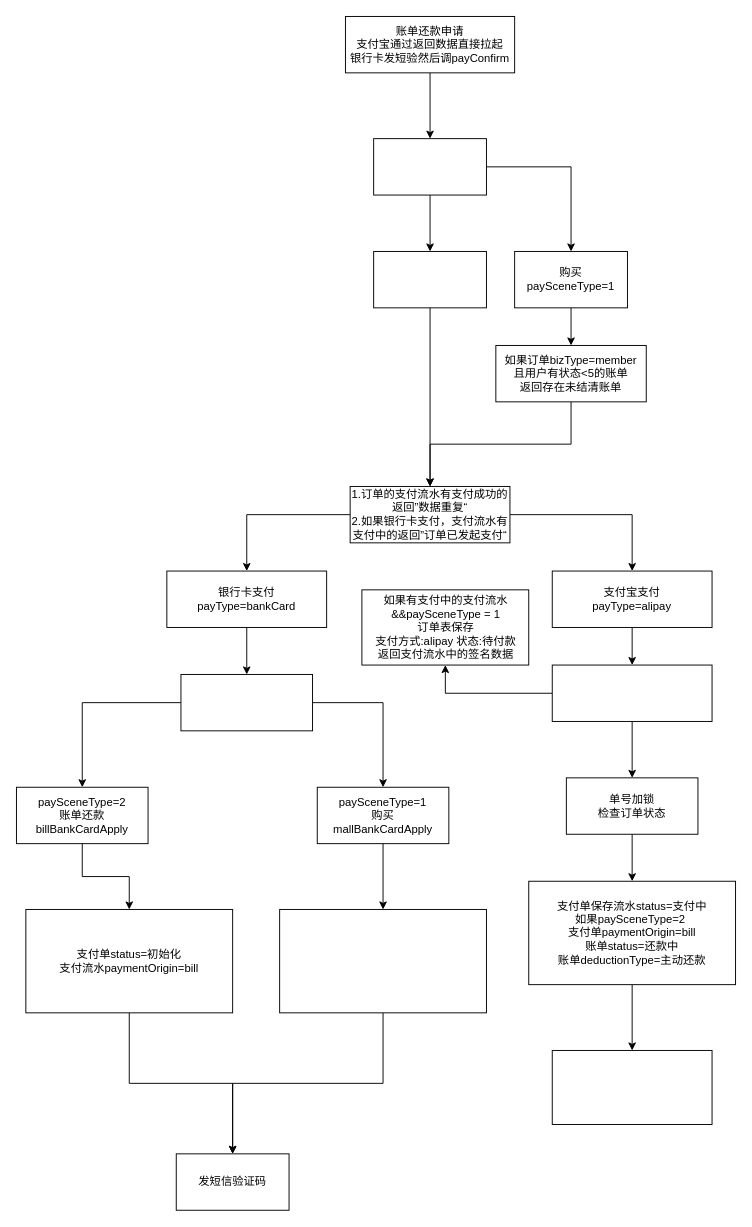
Image size: 752x1227. Some labels were removed from this diagram. Here are the shapes that lost their labels. From the top down, the centre of each, then its label:
At point 429,166: "支付申请 payApply".
At point 429,279: "账单还款 paySceneType=2".
At point 246,702: "短信发送次数校验 相同paySceneType 30分钟内5次以上锁定30分钟".
At point 631,692: "根据单号幂等校验3秒内不能重复发 返回”订单已发起支付“".
At point 382,961: "支付单status=初始化 paymentOrigin=mall".
At point 631,1087: "调ctc返回支付宝签名 支付单更新支付相关流水号、日期等数据 订单表保存 支付方式:alipay 状态:待付款".
